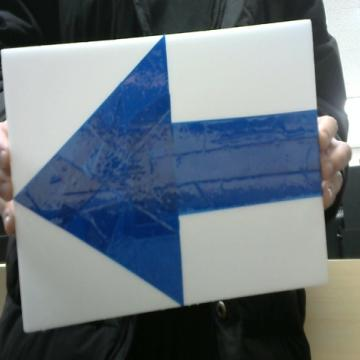blue_left: (16, 36, 320, 304)
